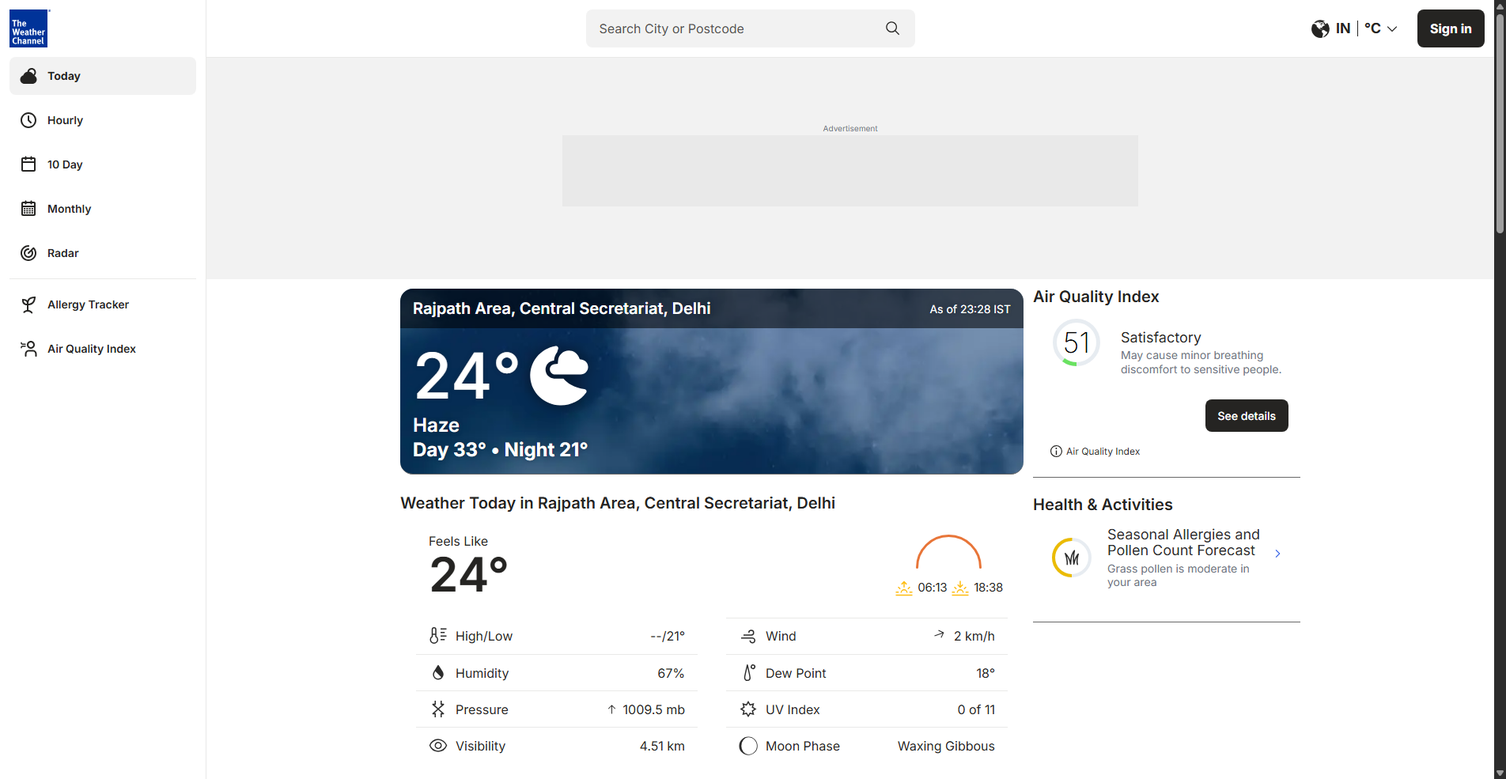button: (1033, 512, 1300, 602), (1205, 399, 1288, 432), (1417, 9, 1485, 47), (1299, 19, 1405, 38), (1046, 444, 1145, 458), (407, 289, 433, 316), (1316, 342, 1328, 354)
input: (586, 9, 916, 47), (400, 289, 410, 314)
label: (399, 288, 400, 289), (586, 9, 586, 9)
link: (9, 57, 196, 95), (9, 101, 196, 139), (9, 190, 196, 228), (9, 234, 196, 272), (9, 330, 196, 368), (9, 146, 196, 183), (9, 286, 196, 323), (9, 9, 51, 47)
